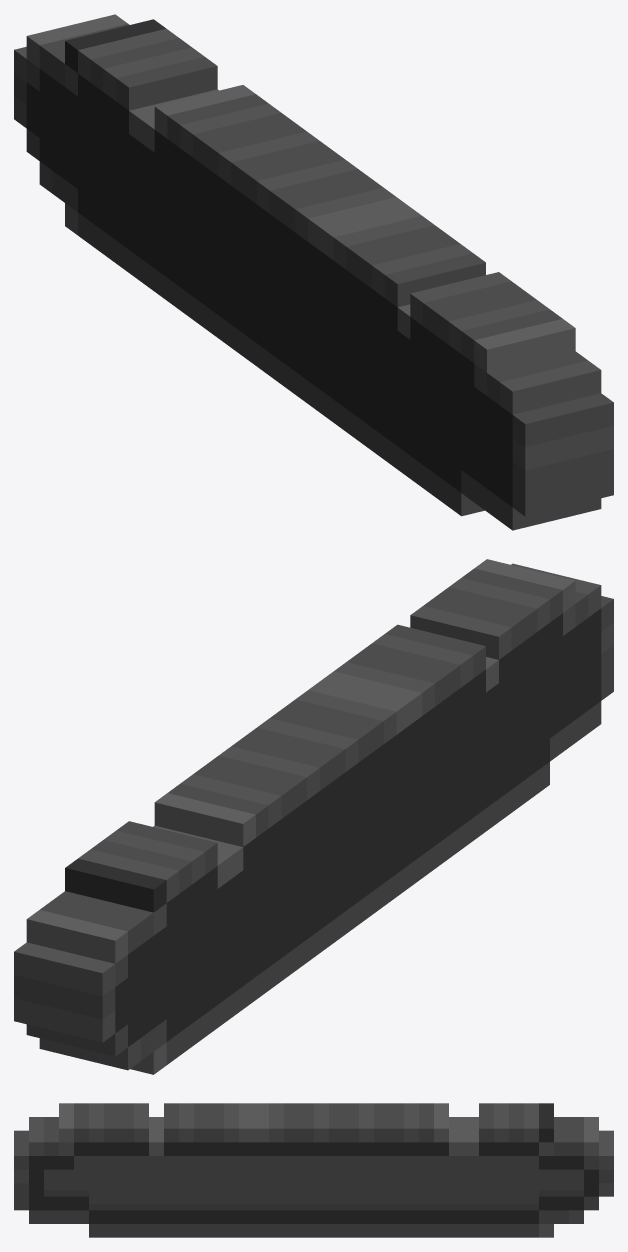
Rendered from firsttank-8.obj.
3 renders of one model, top to bottom at view 1: azimuth 30°, elevation 25°; view 2: azimuth 150°, elevation 25°; view 3: azimuth 270°, elevation 25°, orthographic. The views are drawn at different scales.
Bounding box in the file's own units: 0.4 × 0.8 × 4.
Materials: 1 (1 with a texture image).
